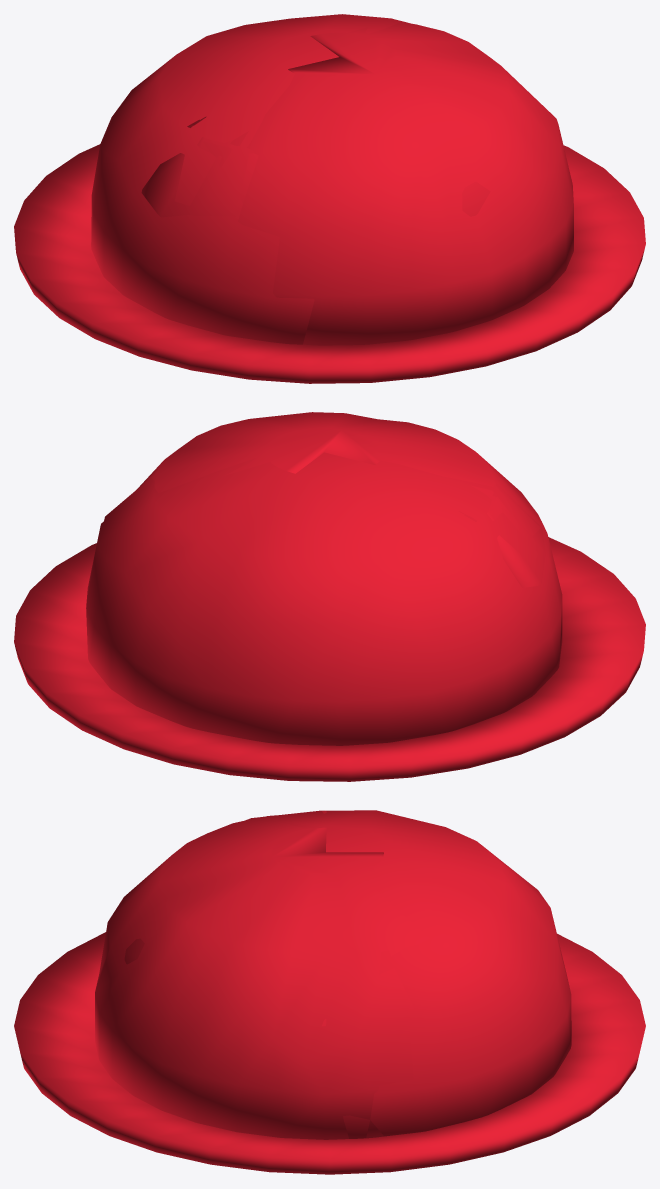
Rendered from cake.fbx.
The picture shows the model from 3 angles, top to bottom: view 1: azimuth 30°, elevation 25°; view 2: azimuth 150°, elevation 25°; view 3: azimuth 270°, elevation 25°; orthographic projection.
Parts seen in each view (by area): view 1: Cake3/4; view 2: Cake3/4; view 3: Cake3/4.
Part boxes in pixels (x1,y1,x2,y2): Cake3/4: (14, 14, 645, 383); Cake3/4: (14, 412, 645, 781); Cake3/4: (14, 810, 645, 1174).
Size of the model in its own units: 178 by 69.72 by 178.
